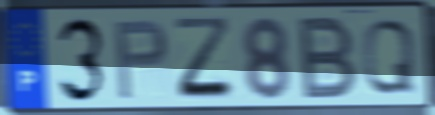3: (51, 15, 109, 105)
8: (240, 15, 293, 102)
B: (298, 13, 360, 102)
P: (112, 17, 171, 102)
Q: (360, 17, 417, 97)
Z: (171, 15, 238, 102)
